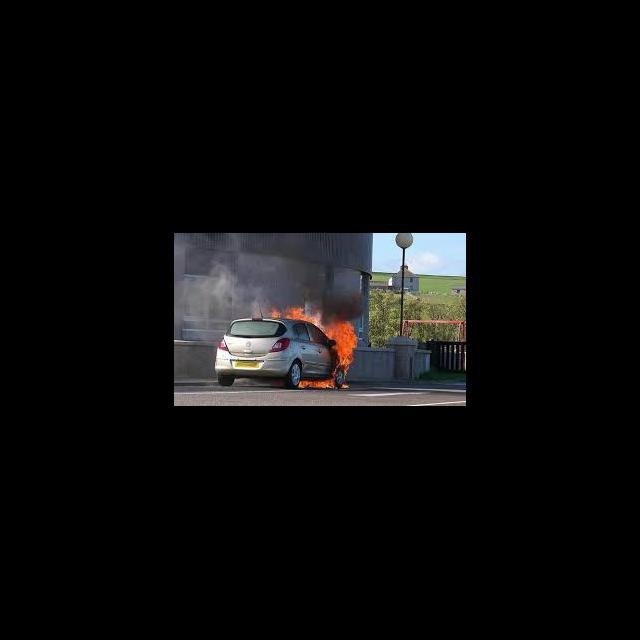Fire: (270, 305, 329, 330), (326, 320, 354, 370), (300, 378, 334, 390)
Smoke: (274, 240, 328, 300), (230, 242, 270, 318), (180, 274, 229, 329), (330, 295, 363, 318)
